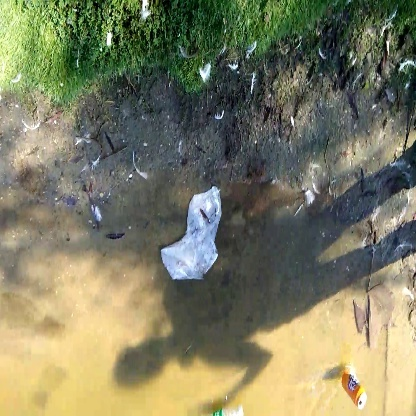bottle: (337, 365, 383, 409)
plastic-bag: (157, 185, 235, 286)
